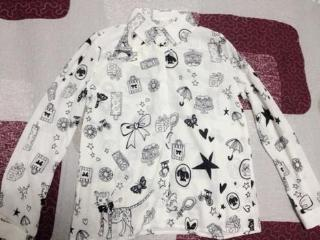long sleeve top: (0, 8, 319, 239)
